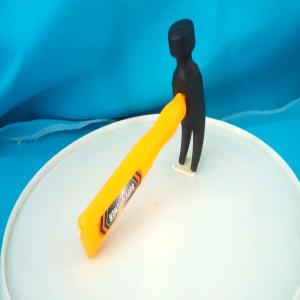martelo: (77, 16, 207, 258)
